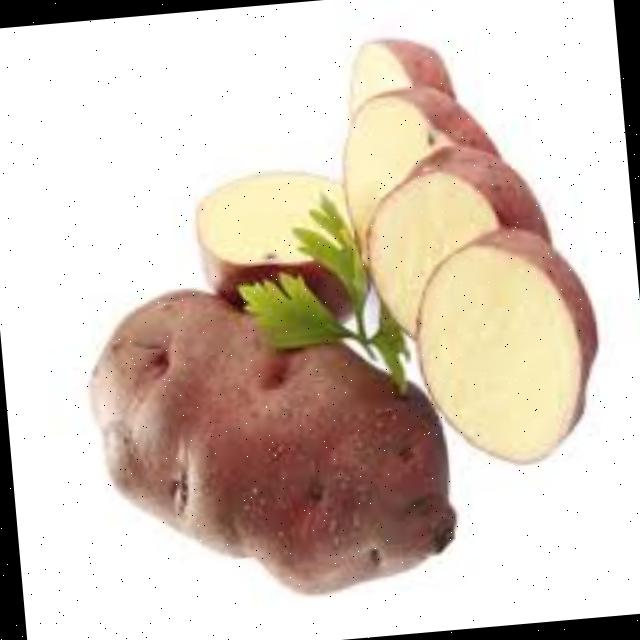Damaged potato: (57, 242, 466, 622)
